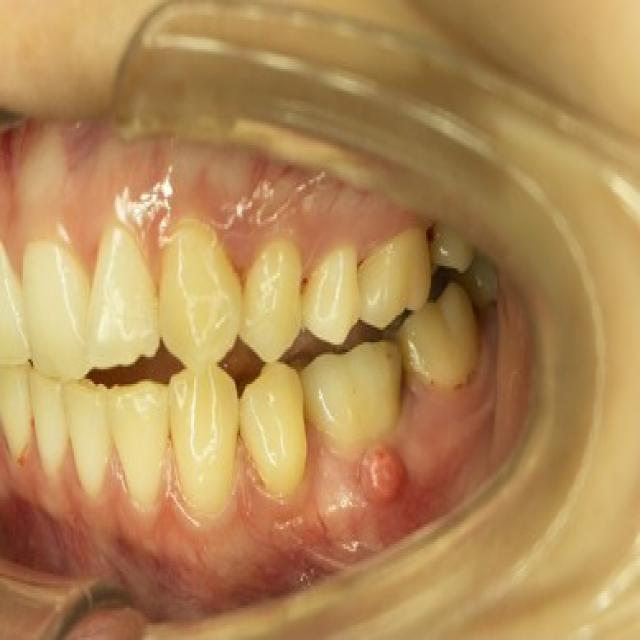abscess: (344, 445, 438, 512)
